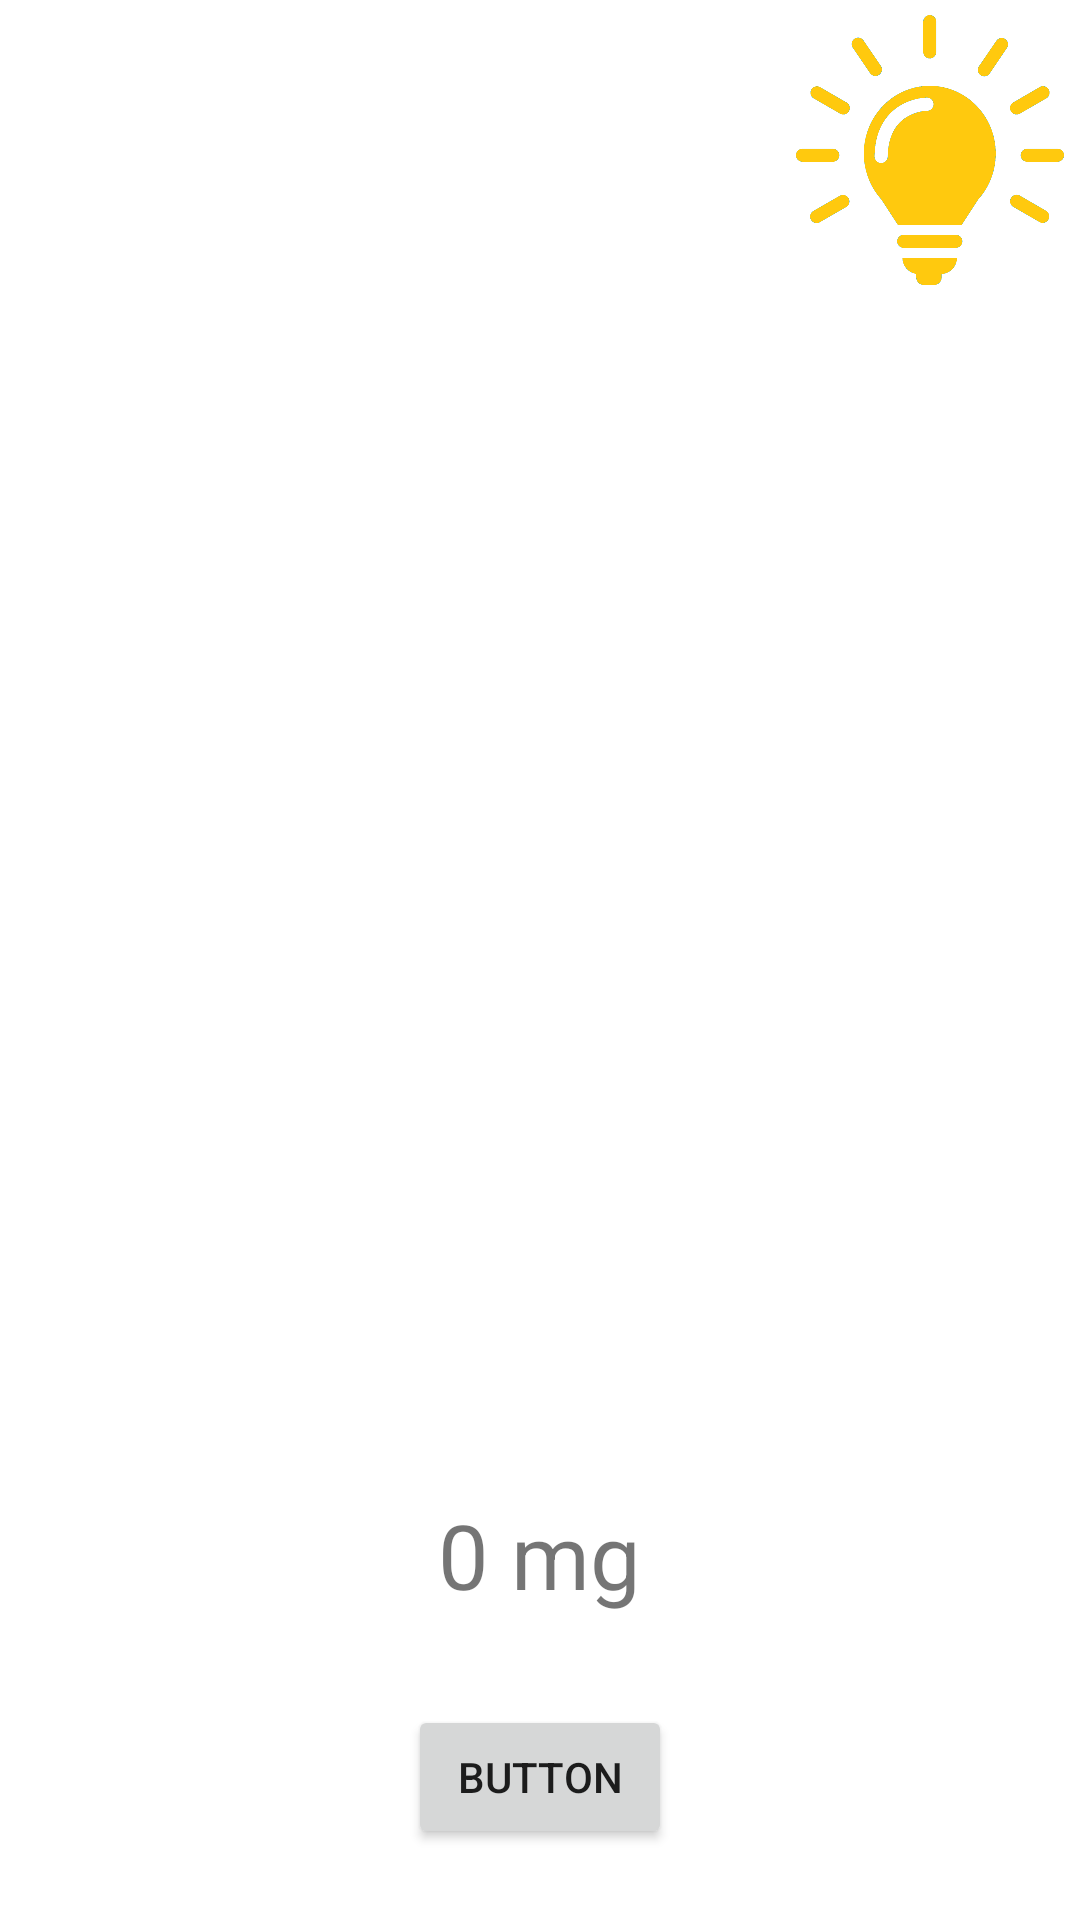

Icons on this 1080 × 1920 Android screen, each with its box as detection(x1, y1, x2, y2):
bulb: detection(796, 15, 1064, 285)
